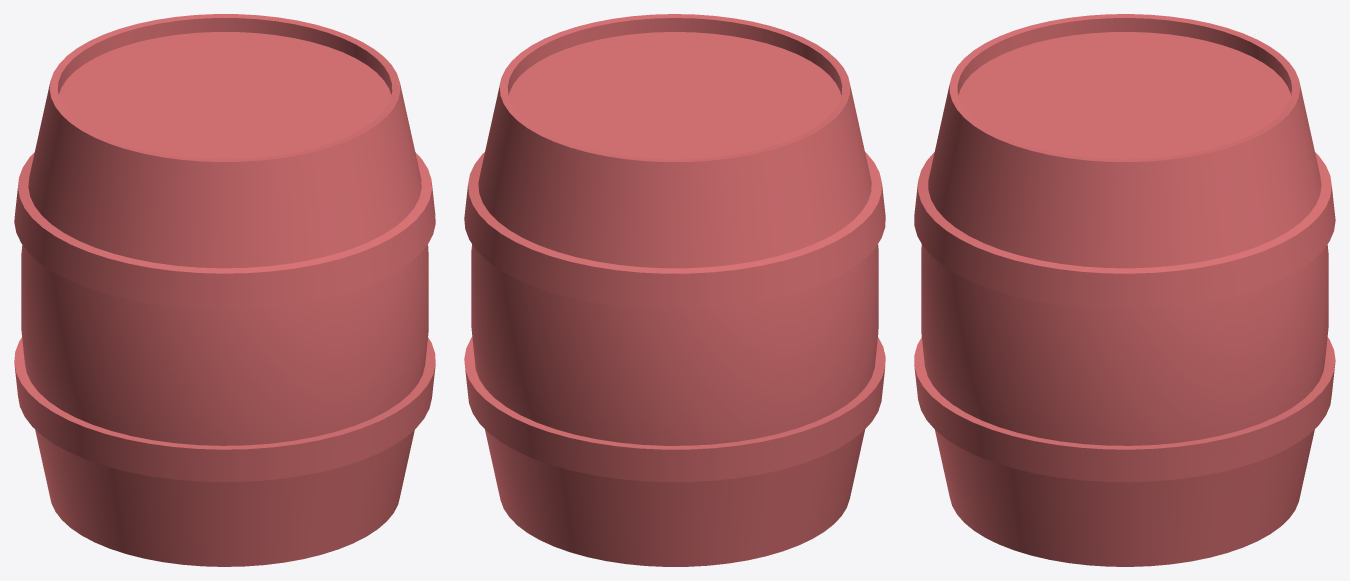
Rendered from Barrel.fbx.
3 renders of one model, left to right at view 1: azimuth 30°, elevation 25°; view 2: azimuth 150°, elevation 25°; view 3: azimuth 270°, elevation 25°, orthographic.
Visible parts, largest first — view 1: Barrel; view 2: Barrel; view 3: Barrel.
Part boxes in pixels (bbox=[...]): Barrel: bbox=[14, 14, 435, 566]; Barrel: bbox=[464, 14, 885, 566]; Barrel: bbox=[914, 14, 1335, 566].
Bounding box in the file's own units: 65.23 × 69.13 × 65.2.
